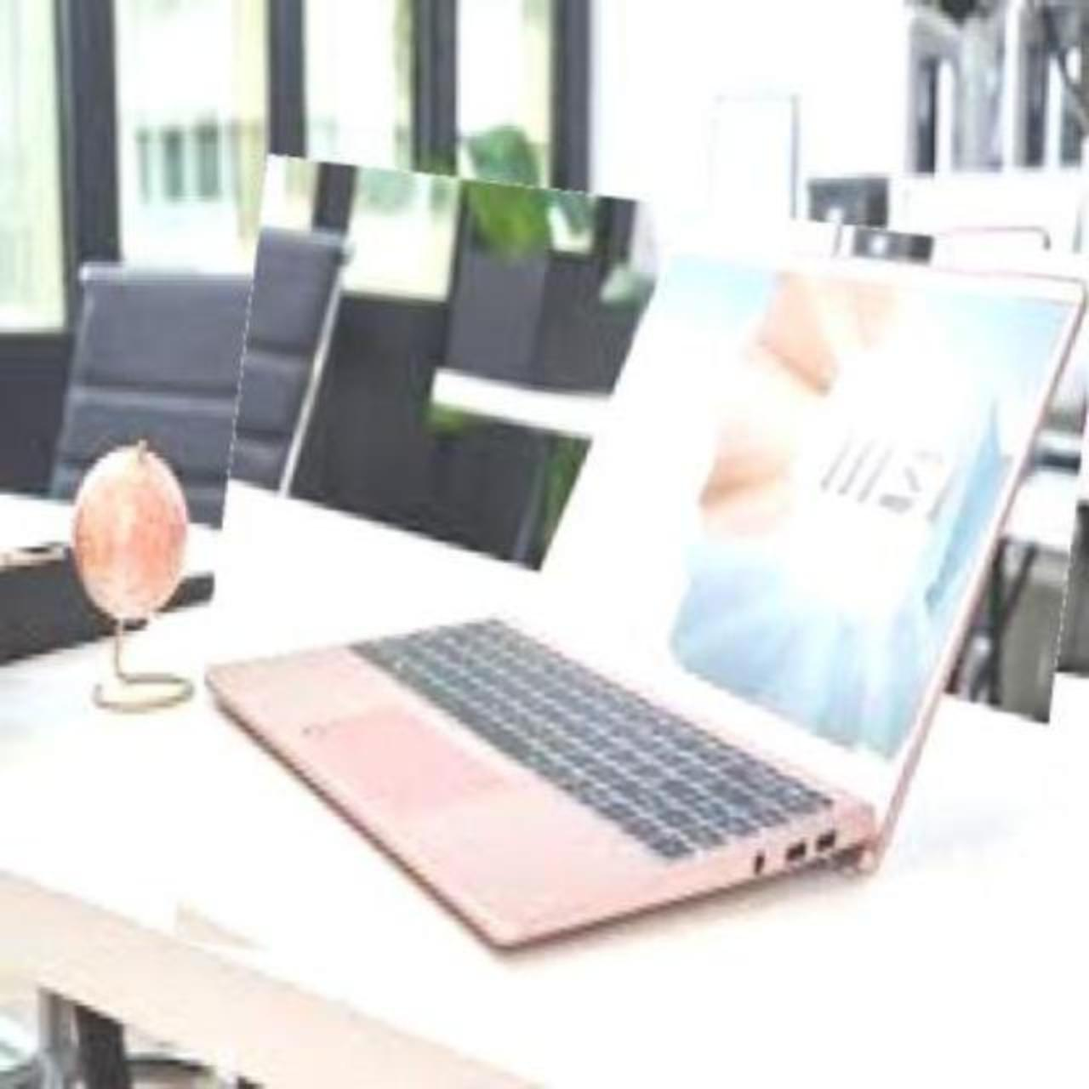laptop: (197, 180, 1083, 1018)
